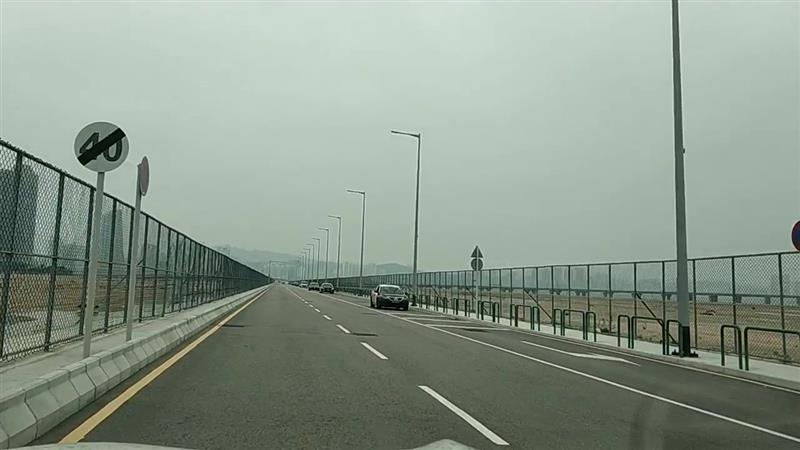car: (370, 283, 409, 310), (319, 282, 334, 292)
limit40No: (74, 120, 130, 173)
